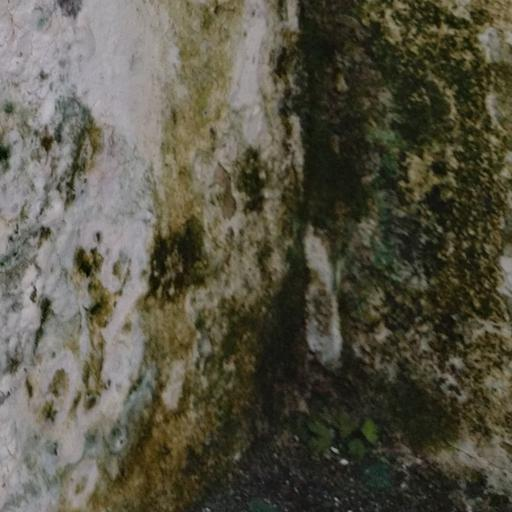algae: (123, 25, 512, 512)
